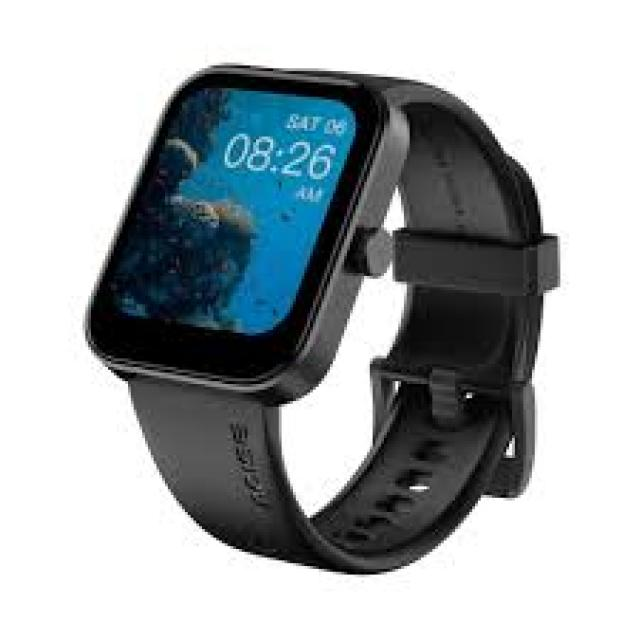objects: (88, 63, 558, 572)
